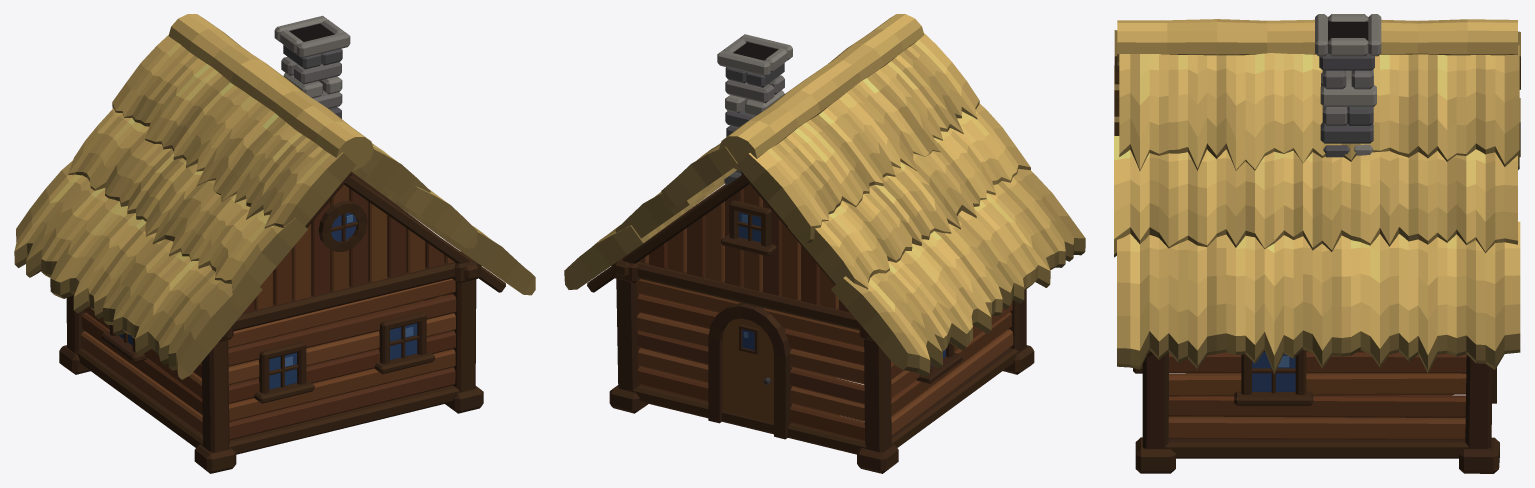
The model's file is house-b.glb.
3 renders of one model, left to right at view 1: azimuth 30°, elevation 25°; view 2: azimuth 150°, elevation 25°; view 3: azimuth 270°, elevation 25°, orthographic. The views are drawn at different scales.
Parts seen in each view (by area): view 1: TownToonHouseB; view 2: TownToonHouseB; view 3: TownToonHouseB.
Part boxes in pixels (bbox=[...]): TownToonHouseB: bbox=[14, 14, 535, 473]; TownToonHouseB: bbox=[564, 14, 1085, 473]; TownToonHouseB: bbox=[1114, 14, 1520, 473].
Bounding box in the file's own units: 5.83 × 5.04 × 4.65.
